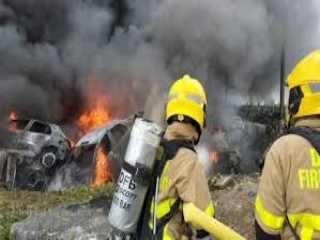fire: (73, 105, 118, 185)
smoke: (6, 6, 308, 114)
